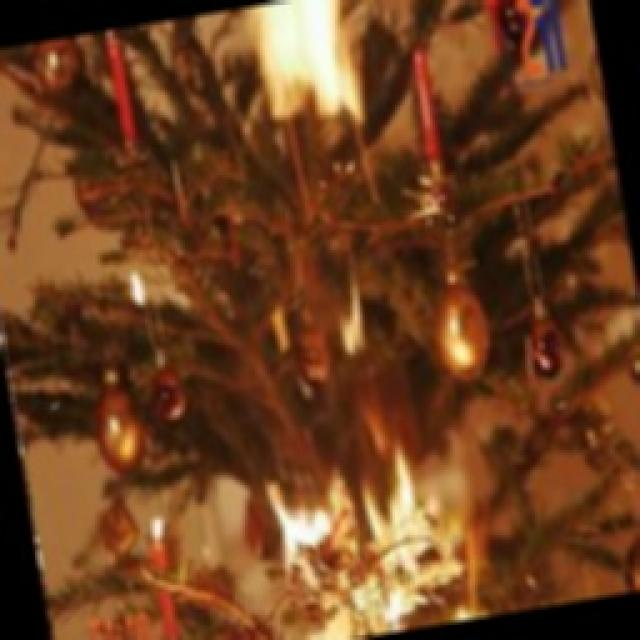fire: (254, 408, 498, 630)
